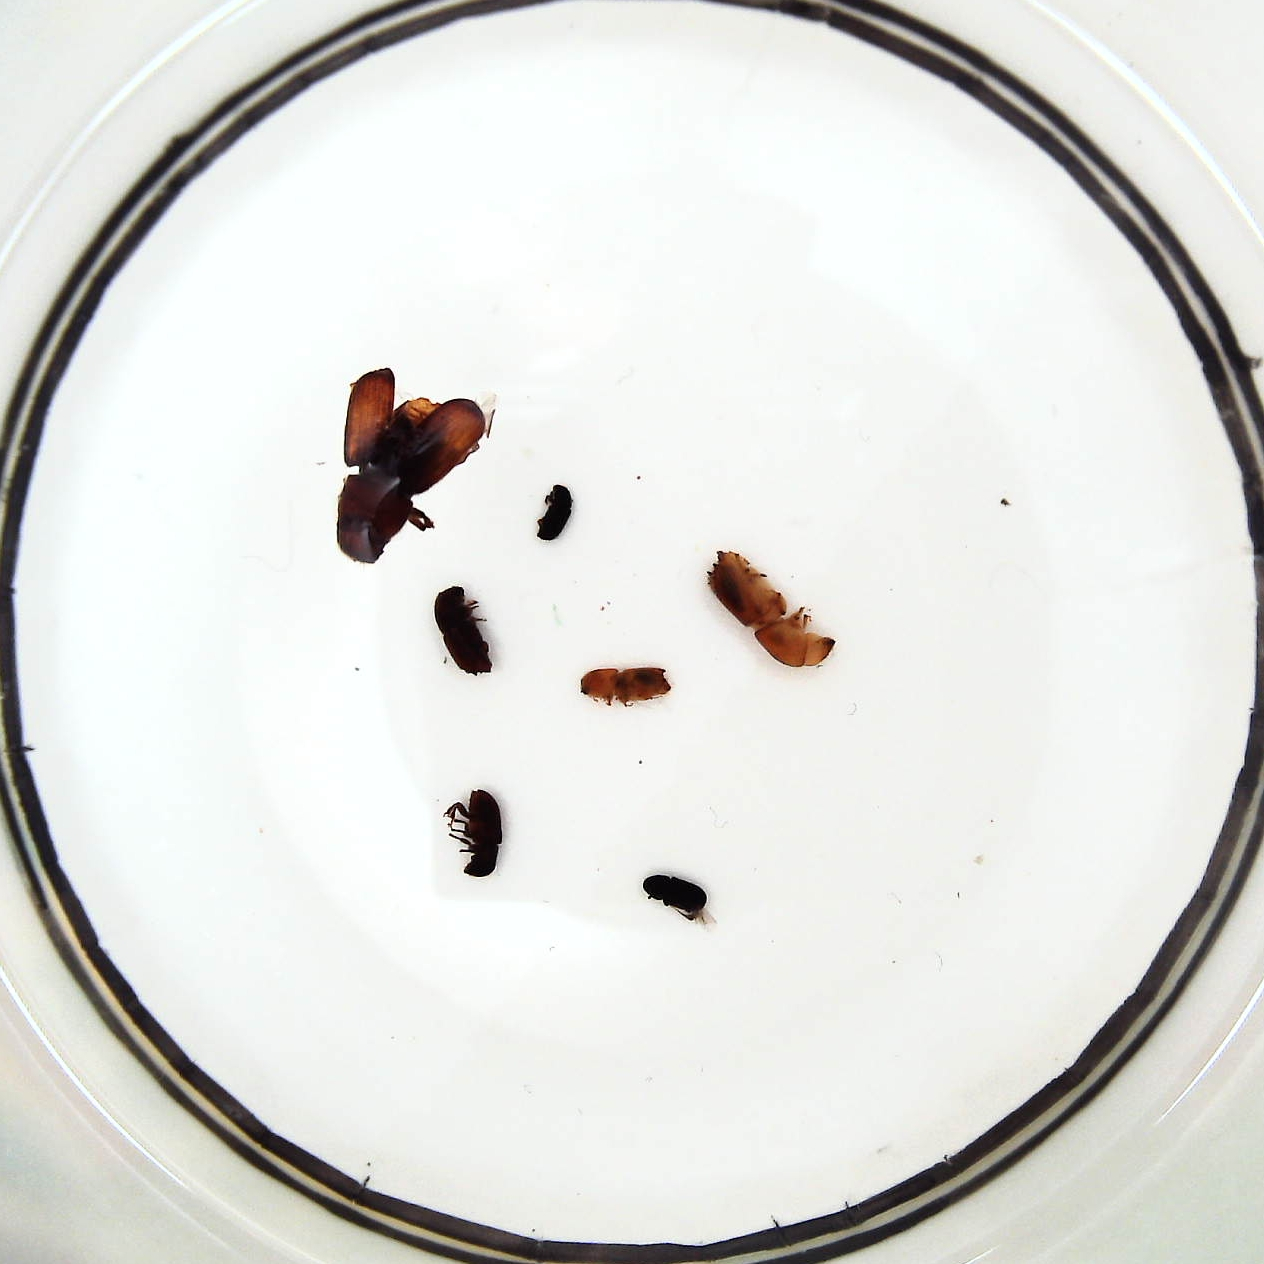Boerner: (706, 550, 835, 669)
Leconte: (336, 365, 487, 566)
Linnaeus: (432, 581, 493, 678)
acuminatus: (575, 666, 669, 701)
armandi: (450, 787, 505, 877)
coleoptera: (639, 870, 711, 920), (536, 486, 575, 543)
